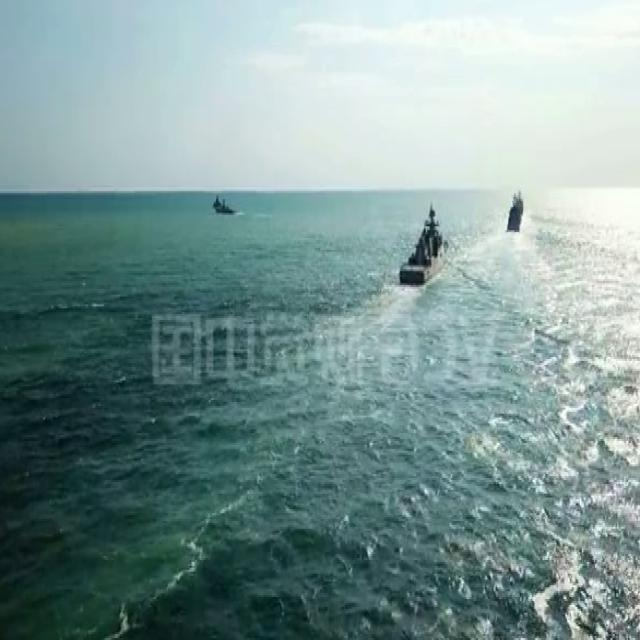navalvessels: (400, 204, 448, 282), (508, 198, 521, 232), (218, 193, 235, 217), (514, 187, 526, 214), (213, 190, 220, 208)
